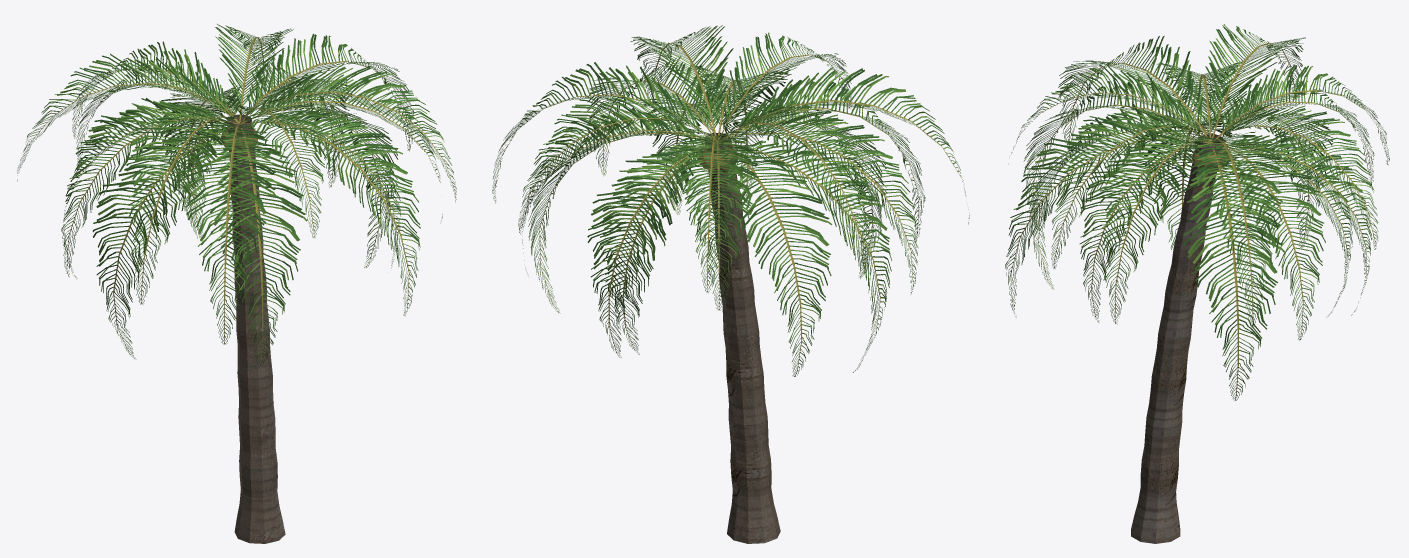
Rendered from palm_b.glb.
3 renders of one model, left to right at view 1: azimuth 30°, elevation 25°; view 2: azimuth 150°, elevation 25°; view 3: azimuth 270°, elevation 25°, orthographic. The views are drawn at different scales.
Visible parts, largest first — view 1: fronds, trunk; view 2: fronds, trunk; view 3: fronds, trunk.
Boxes of the visible parts, x1=… form: fronds: x1=17, y1=24, x2=456, y2=366; trunk: x1=227, y1=114, x2=285, y2=543; fronds: x1=492, y1=25, x2=969, y2=376; trunk: x1=704, y1=132, x2=780, y2=543; fronds: x1=1005, y1=24, x2=1389, y2=400; trunk: x1=1131, y1=134, x2=1222, y2=543.
Size of the model in its own units: 0.8717 by 1 by 0.774.
3 materials, 2 textured.
